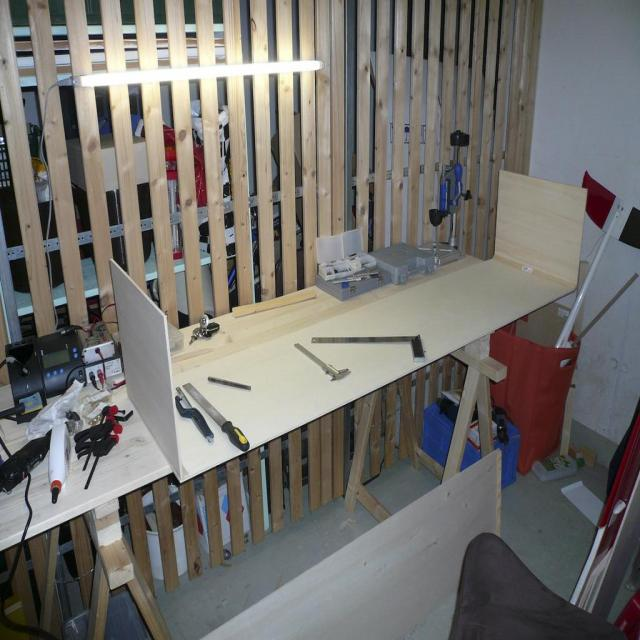table: (150, 198, 584, 545)
